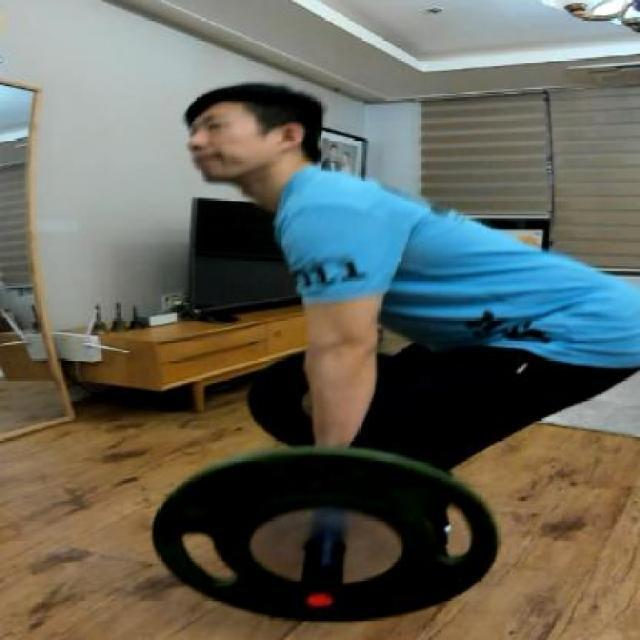Barbell: (288, 580, 347, 614)
